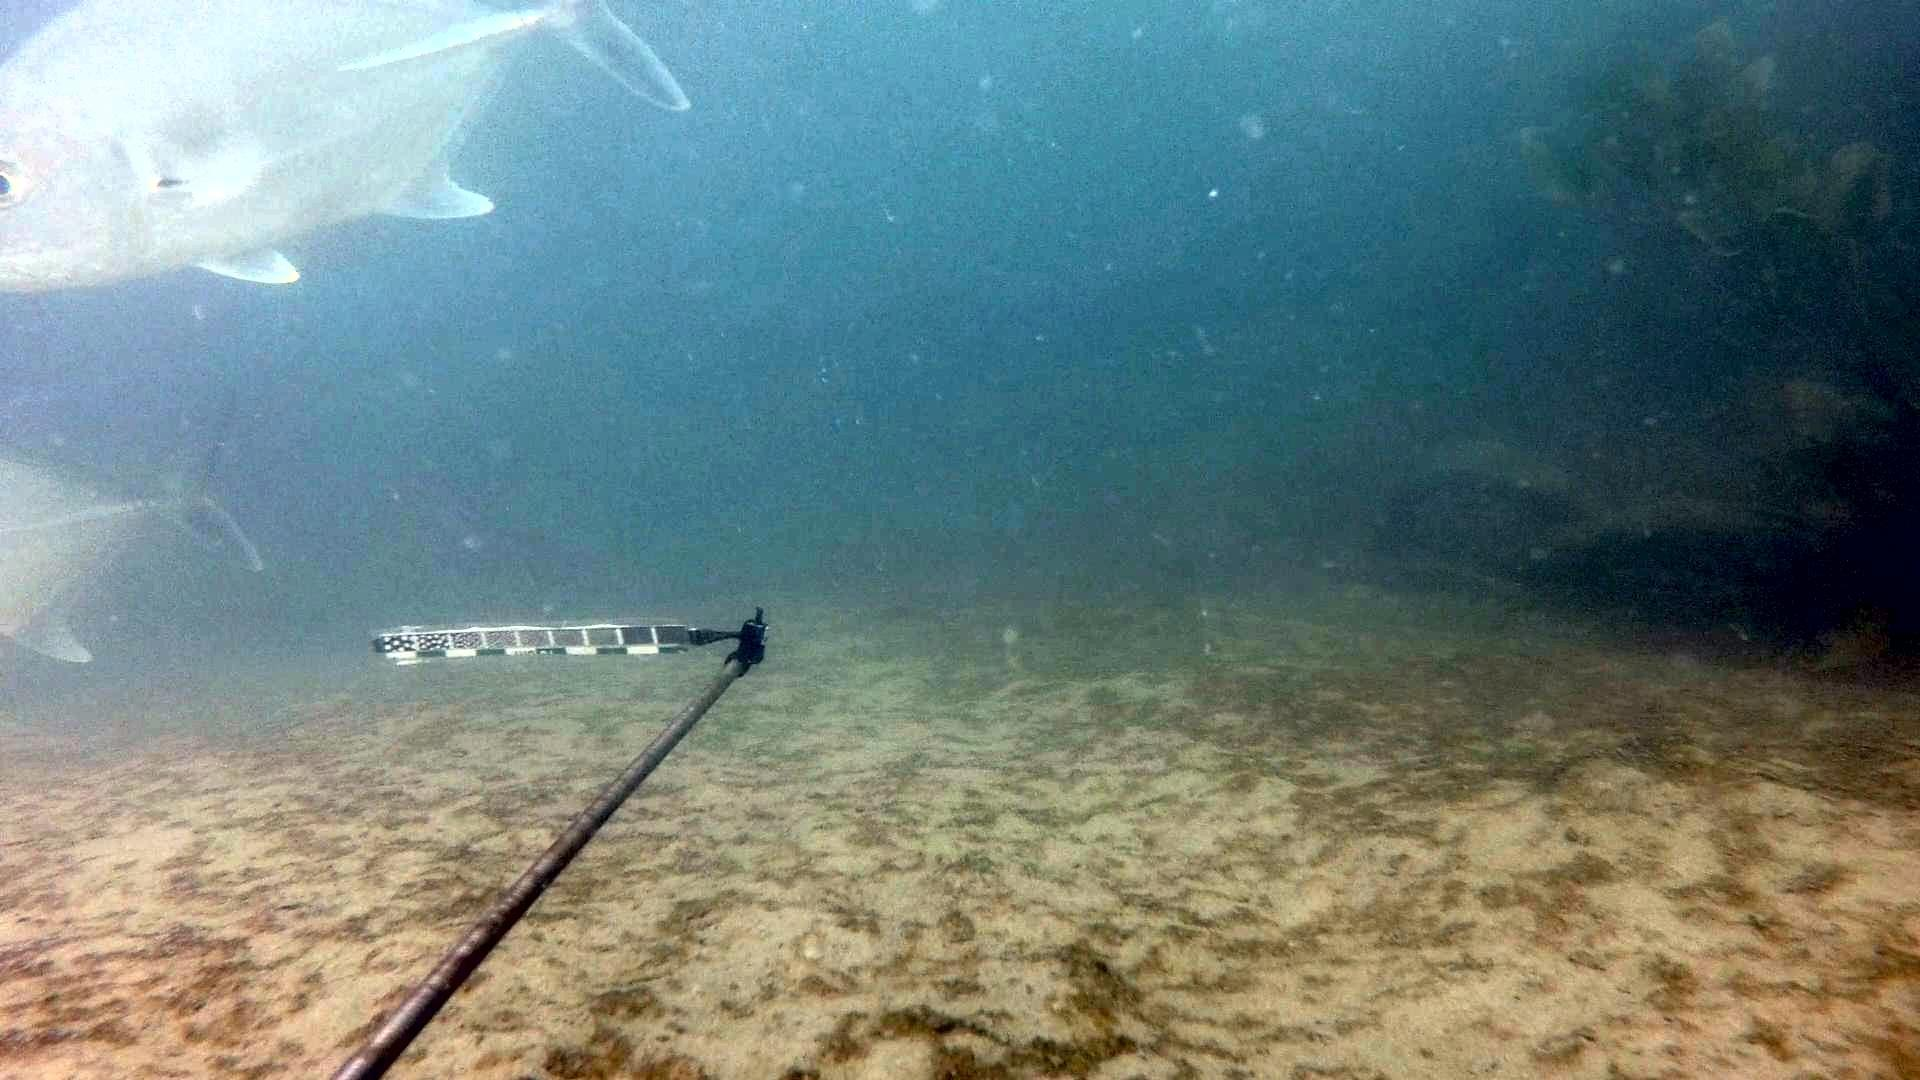caranx: (0, 0, 701, 307), (0, 383, 299, 665)
